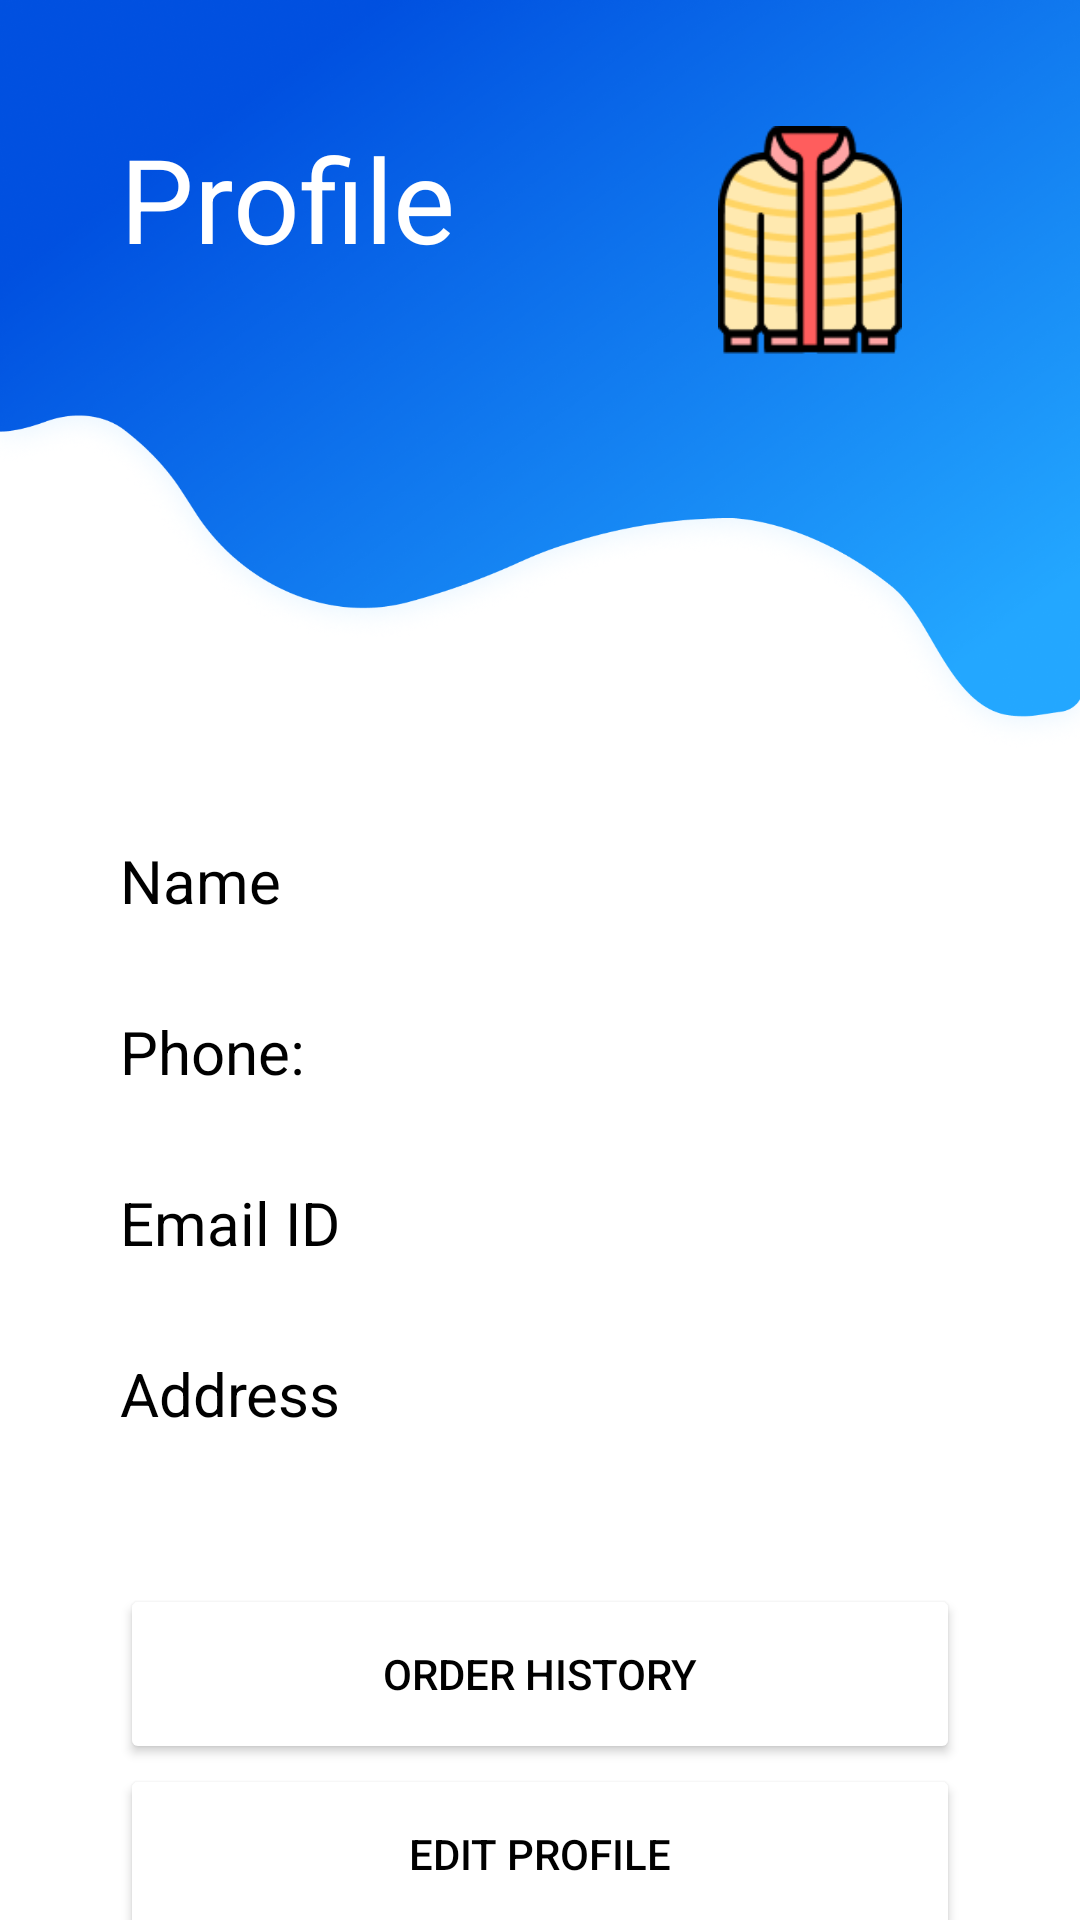

Icon click points for this 1080px×1920px phone screenshot, format [x,y]:
clothimg: [791,226]
